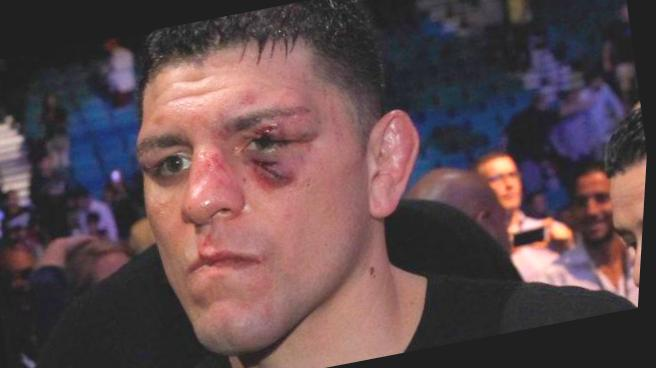Fire: (236, 125, 311, 190)
